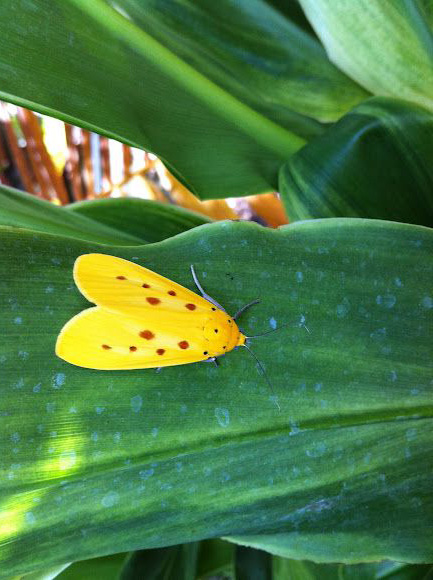Agape chloropyga: (52, 251, 292, 417)
moth: (50, 249, 290, 415)
